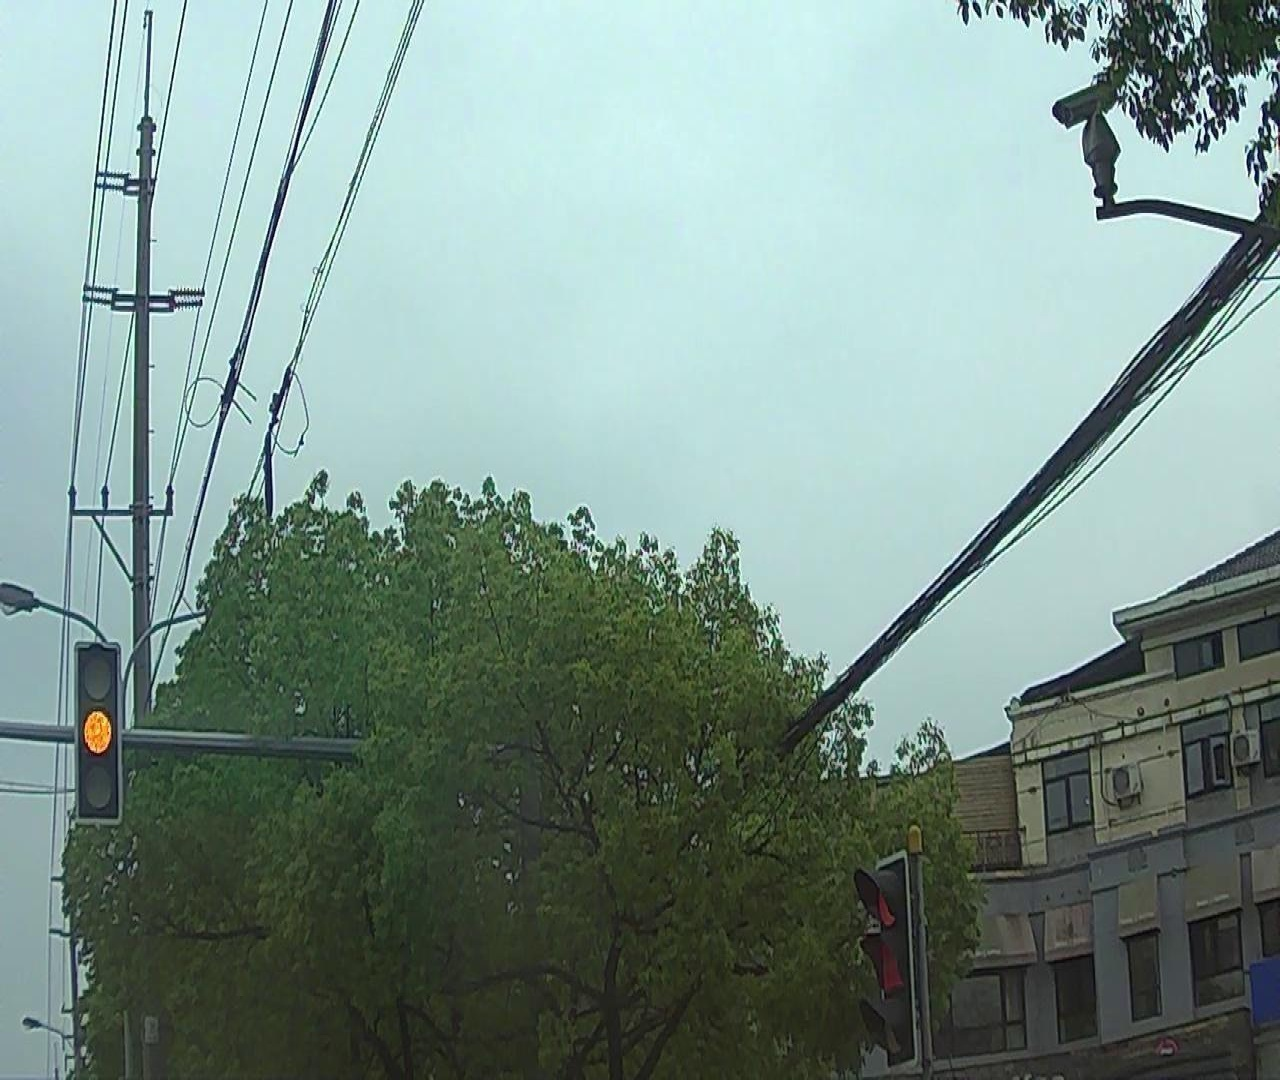yellow: (75, 642, 118, 816)
